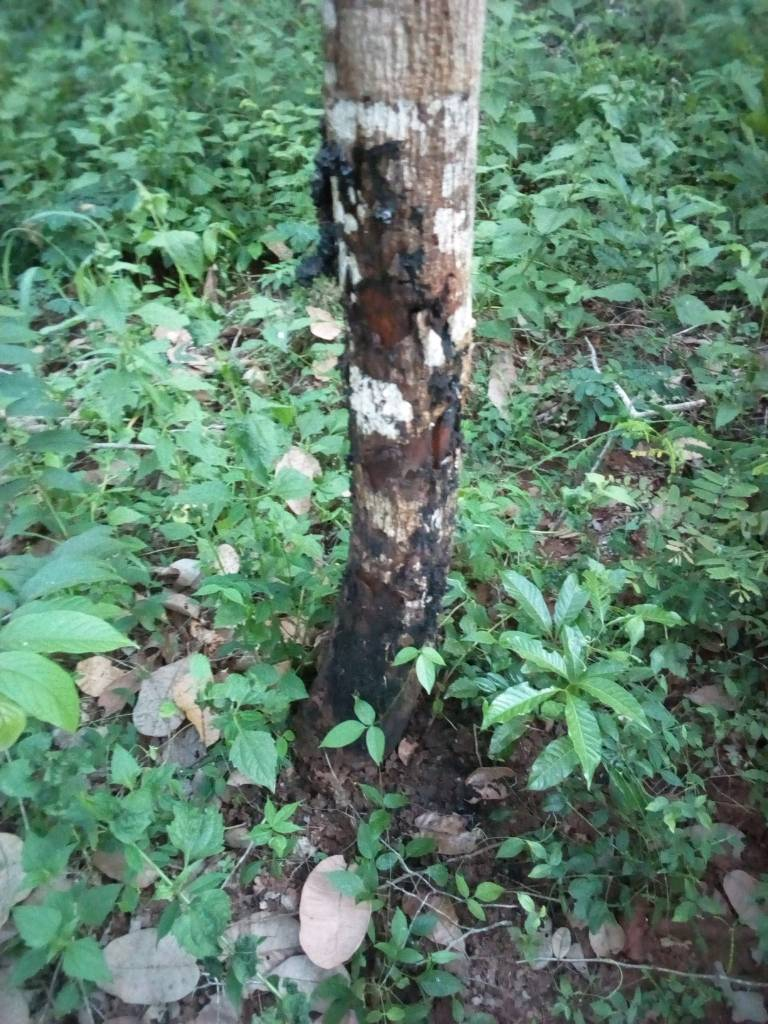Mecocorynus longiceps: (266, 106, 492, 659)
